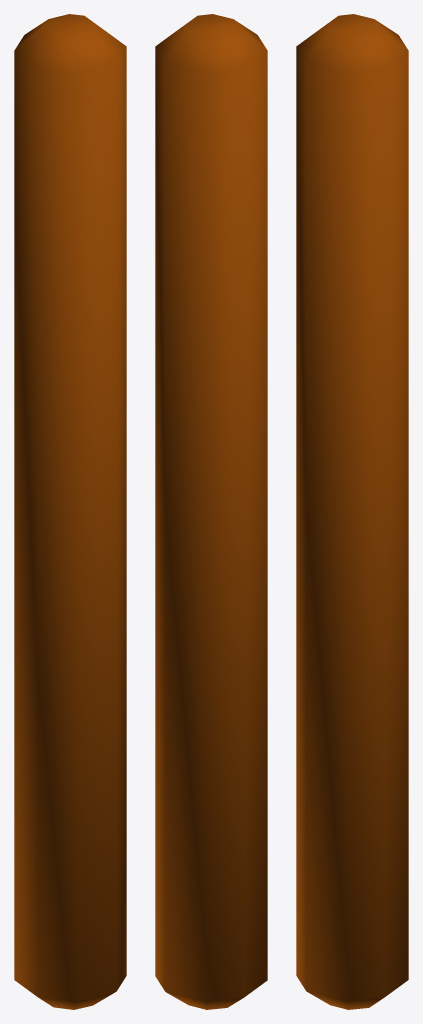
Rendered from Stick.fbx.
3 renders of one model, left to right at view 1: azimuth 30°, elevation 25°; view 2: azimuth 150°, elevation 25°; view 3: azimuth 330°, elevation 25°, orthographic.
Parts seen in each view (by area): view 1: Stick; view 2: Stick; view 3: Stick.
Part boxes in pixels (x1,y1,x2,y2): Stick: [14, 14, 126, 1009]; Stick: [155, 14, 267, 1009]; Stick: [296, 14, 408, 1009].
Bounding box in the file's own units: 13.66 × 143 × 13.66.
